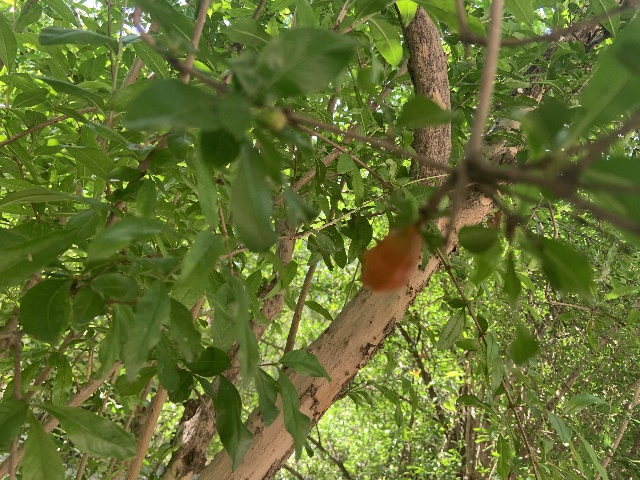bud: (359, 224, 423, 293)
